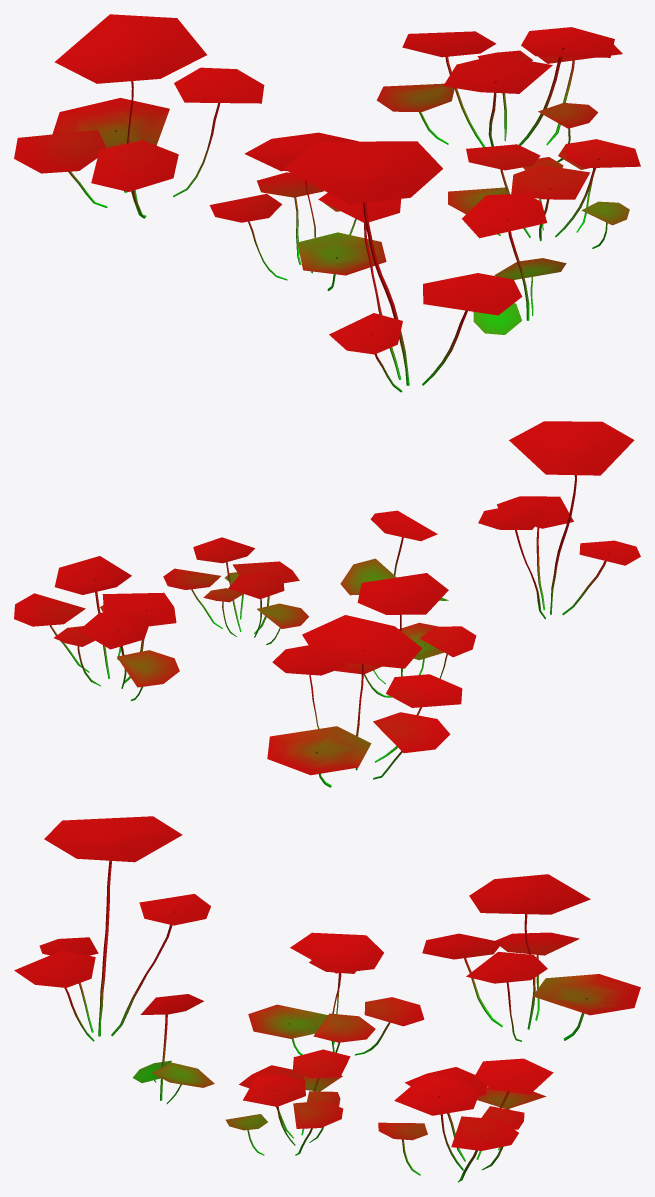
Rendered from Wood Sorrel_LOD0_Var5_wcwmchzja.fbx.
The picture shows the model from 3 angles, top to bottom: view 1: azimuth 30°, elevation 25°; view 2: azimuth 150°, elevation 25°; view 3: azimuth 270°, elevation 25°; orthographic projection. The views are drawn at different scales.
Parts seen in each view (by area): view 1: _d6qi_Var5_LOD0; view 2: _d6qi_Var5_LOD0; view 3: _d6qi_Var5_LOD0.
Boxes of the visible parts, x1,y1,x2,y2 form: _d6qi_Var5_LOD0: (14, 14, 640, 392); _d6qi_Var5_LOD0: (14, 421, 640, 787); _d6qi_Var5_LOD0: (14, 816, 640, 1182).
Bounding box in the file's own units: 22.33 × 8.83 × 25.89.
